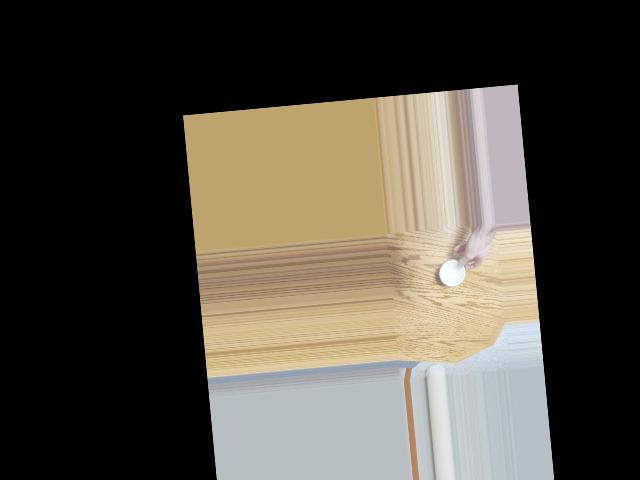cotage: (439, 256, 469, 287)
